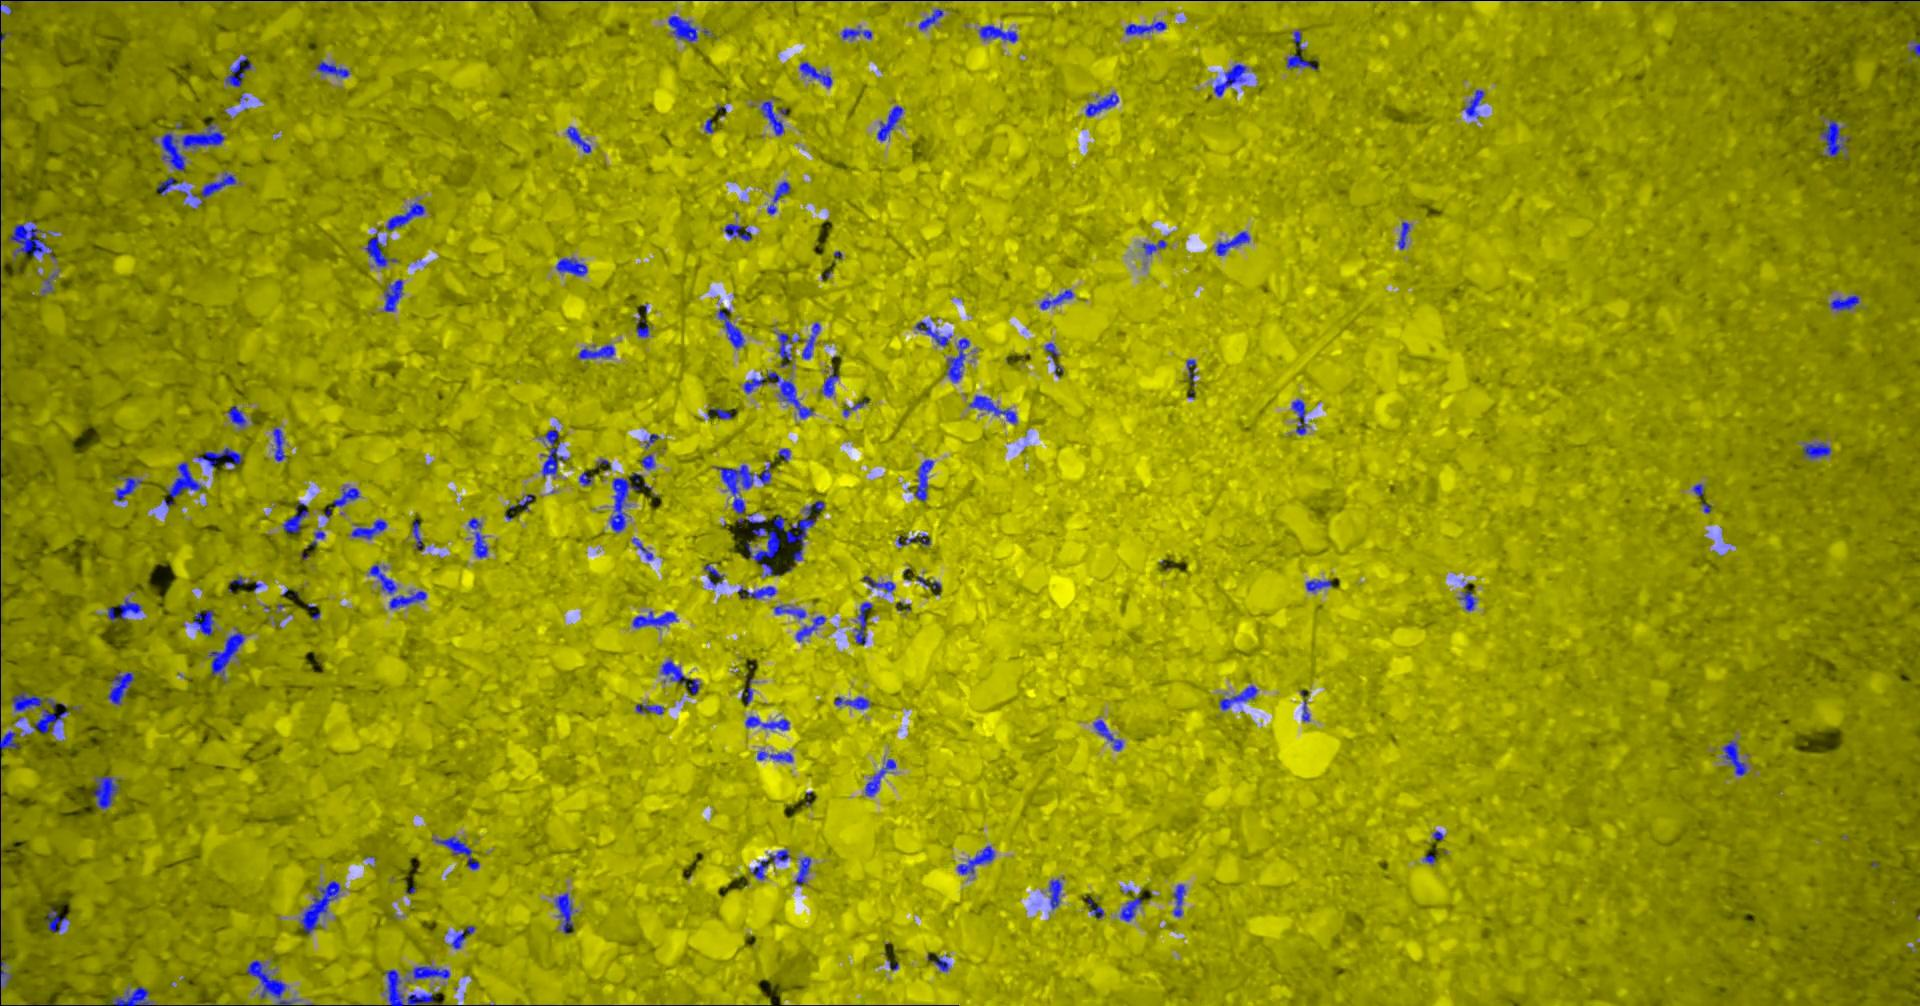ant: (743, 371, 811, 418), (160, 122, 223, 171), (370, 564, 425, 608), (11, 692, 69, 733), (298, 880, 339, 934), (246, 960, 292, 1005), (385, 969, 438, 1005), (610, 473, 641, 532), (785, 500, 824, 545), (8, 221, 55, 258), (163, 462, 201, 506), (208, 631, 244, 674), (436, 836, 479, 869), (968, 395, 1016, 423), (541, 429, 568, 478), (662, 659, 698, 694), (197, 171, 235, 205), (863, 758, 895, 796), (750, 848, 789, 879), (385, 201, 424, 230), (956, 845, 994, 874), (945, 337, 969, 382), (1213, 64, 1246, 97), (364, 232, 397, 265), (717, 307, 744, 348), (1820, 119, 1849, 156), (1219, 685, 1257, 710), (554, 892, 577, 934), (196, 447, 243, 467), (107, 671, 135, 704), (1093, 719, 1123, 749), (914, 321, 951, 345), (282, 500, 309, 533), (876, 105, 902, 140), (1722, 741, 1747, 775), (1214, 231, 1250, 255), (225, 55, 251, 86), (93, 775, 118, 808), (759, 100, 783, 135), (467, 517, 488, 558), (795, 615, 825, 641), (799, 61, 830, 86), (914, 459, 933, 500), (110, 986, 152, 1005), (766, 180, 790, 213), (667, 15, 697, 41), (1084, 93, 1117, 116), (855, 602, 872, 644), (632, 611, 677, 627), (978, 24, 1017, 42), (112, 478, 142, 500), (350, 520, 386, 539), (744, 715, 789, 730), (1039, 290, 1073, 309), (566, 126, 590, 152), (801, 323, 819, 358), (1463, 89, 1484, 118), (315, 60, 349, 77), (555, 257, 587, 276), (383, 279, 403, 311), (777, 332, 799, 359), (192, 608, 213, 636), (1119, 897, 1142, 921), (450, 925, 474, 948), (1124, 22, 1166, 34), (331, 486, 359, 506), (118, 598, 141, 621), (918, 8, 942, 29), (578, 344, 615, 358), (822, 366, 838, 396), (1291, 399, 1305, 434), (44, 909, 67, 931), (156, 177, 182, 196), (862, 575, 894, 591), (737, 586, 775, 598), (411, 967, 450, 979), (632, 537, 653, 560), (1802, 442, 1830, 459), (1829, 295, 1858, 310), (795, 856, 810, 885), (724, 224, 750, 240), (703, 563, 723, 586), (834, 696, 869, 709), (775, 605, 805, 619), (272, 428, 284, 461), (1286, 55, 1316, 69), (1048, 879, 1062, 908), (1172, 884, 1185, 916), (897, 533, 930, 545), (756, 751, 792, 761), (411, 520, 424, 549), (1142, 239, 1166, 254), (0, 730, 19, 749), (227, 405, 245, 426), (1397, 221, 1410, 249), (841, 28, 871, 39), (1458, 591, 1476, 610), (1087, 898, 1103, 918), (0, 955, 11, 984), (706, 406, 731, 419), (1299, 690, 1309, 721), (635, 702, 663, 714), (635, 312, 648, 337), (916, 575, 940, 588), (1305, 579, 1332, 591), (517, 493, 533, 511), (740, 678, 752, 704), (932, 954, 949, 970), (1044, 342, 1058, 359), (1291, 30, 1303, 50), (640, 453, 654, 469), (578, 471, 592, 485), (1186, 359, 1195, 381), (1691, 483, 1704, 495), (1849, 0, 1919, 1)
